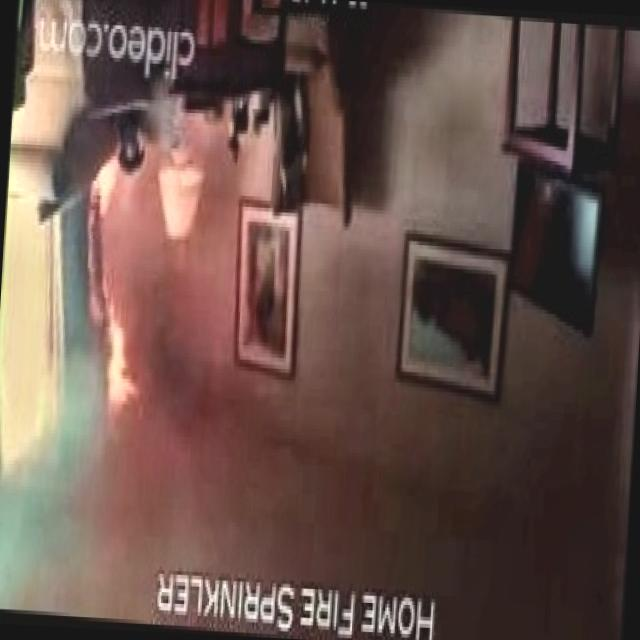fire: (67, 249, 172, 468)
